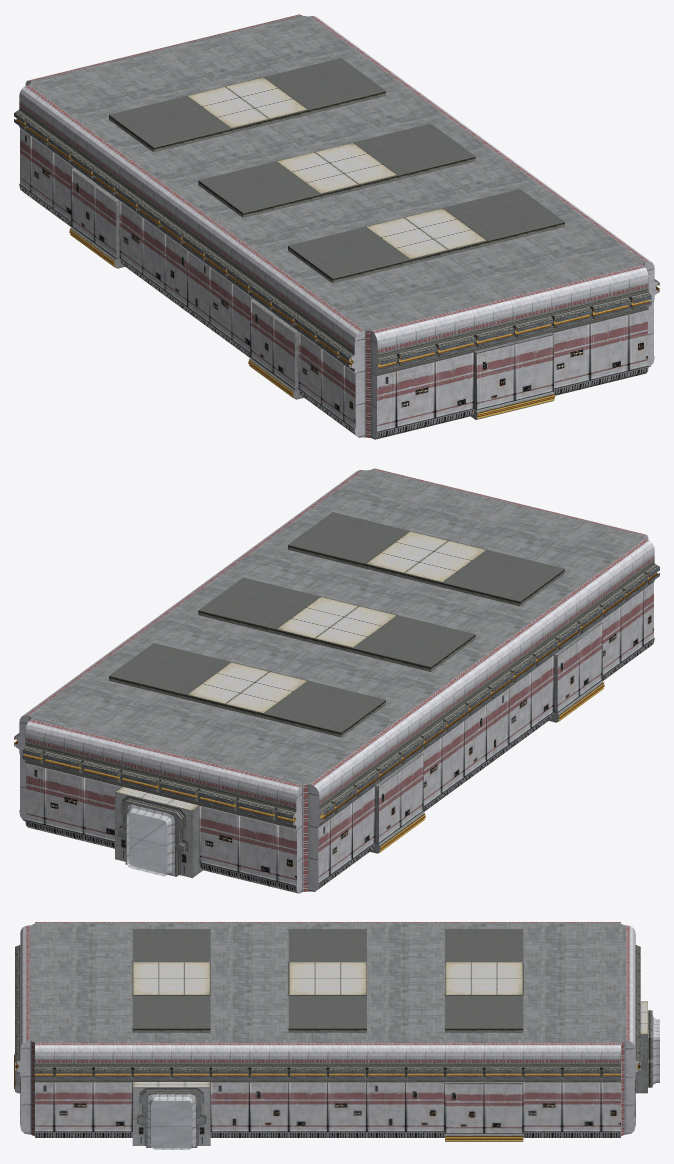
The model's file is poi_all_rebl_bunker_s01_r13_barracks_mesh_r13.fbx.
The picture shows the model from 3 angles, top to bottom: view 1: azimuth 30°, elevation 25°; view 2: azimuth 150°, elevation 25°; view 3: azimuth 270°, elevation 25°; orthographic projection. The views are drawn at different scales.
Visible parts, largest first — view 1: mesh_node; view 2: mesh_node; view 3: mesh_node.
Boxes of the visible parts, x1,y1,x2,y2 form: mesh_node: (14, 14, 659, 439); mesh_node: (14, 468, 659, 893); mesh_node: (14, 922, 659, 1149).
Size of the model in its own units: 17.07 by 5.55 by 33.07.
